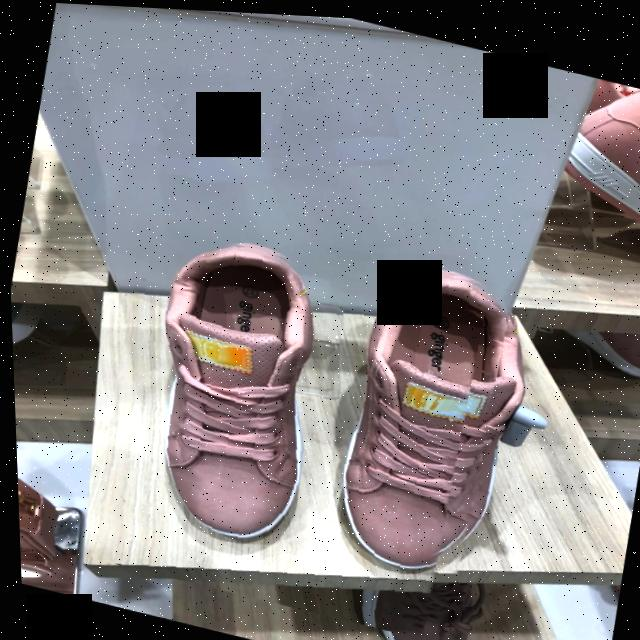shoe: (89, 244, 386, 628), (336, 267, 507, 578)
